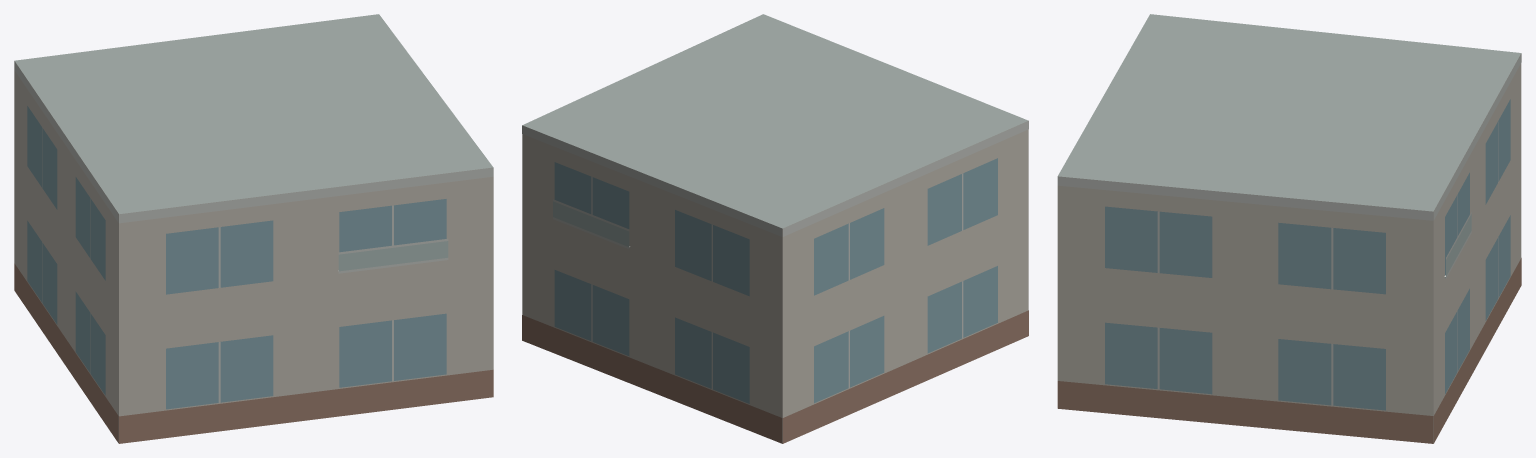
The model's file is survey-upis-32684996.glb.
3 renders of one model, left to right at view 1: azimuth 30°, elevation 25°; view 2: azimuth 150°, elevation 25°; view 3: azimuth 270°, elevation 25°, orthographic. The views are drawn at different scales.
Visible parts, largest first — view 1: survey-upis-32684996.tmp; view 2: survey-upis-32684996.tmp; view 3: survey-upis-32684996.tmp.
Boxes of the visible parts, x1,y1,x2,y2 form: survey-upis-32684996.tmp: [14, 14, 493, 443]; survey-upis-32684996.tmp: [522, 14, 1028, 443]; survey-upis-32684996.tmp: [1057, 14, 1521, 443].
Size of the model in its own units: 11.13 by 6.1 by 11.05.
